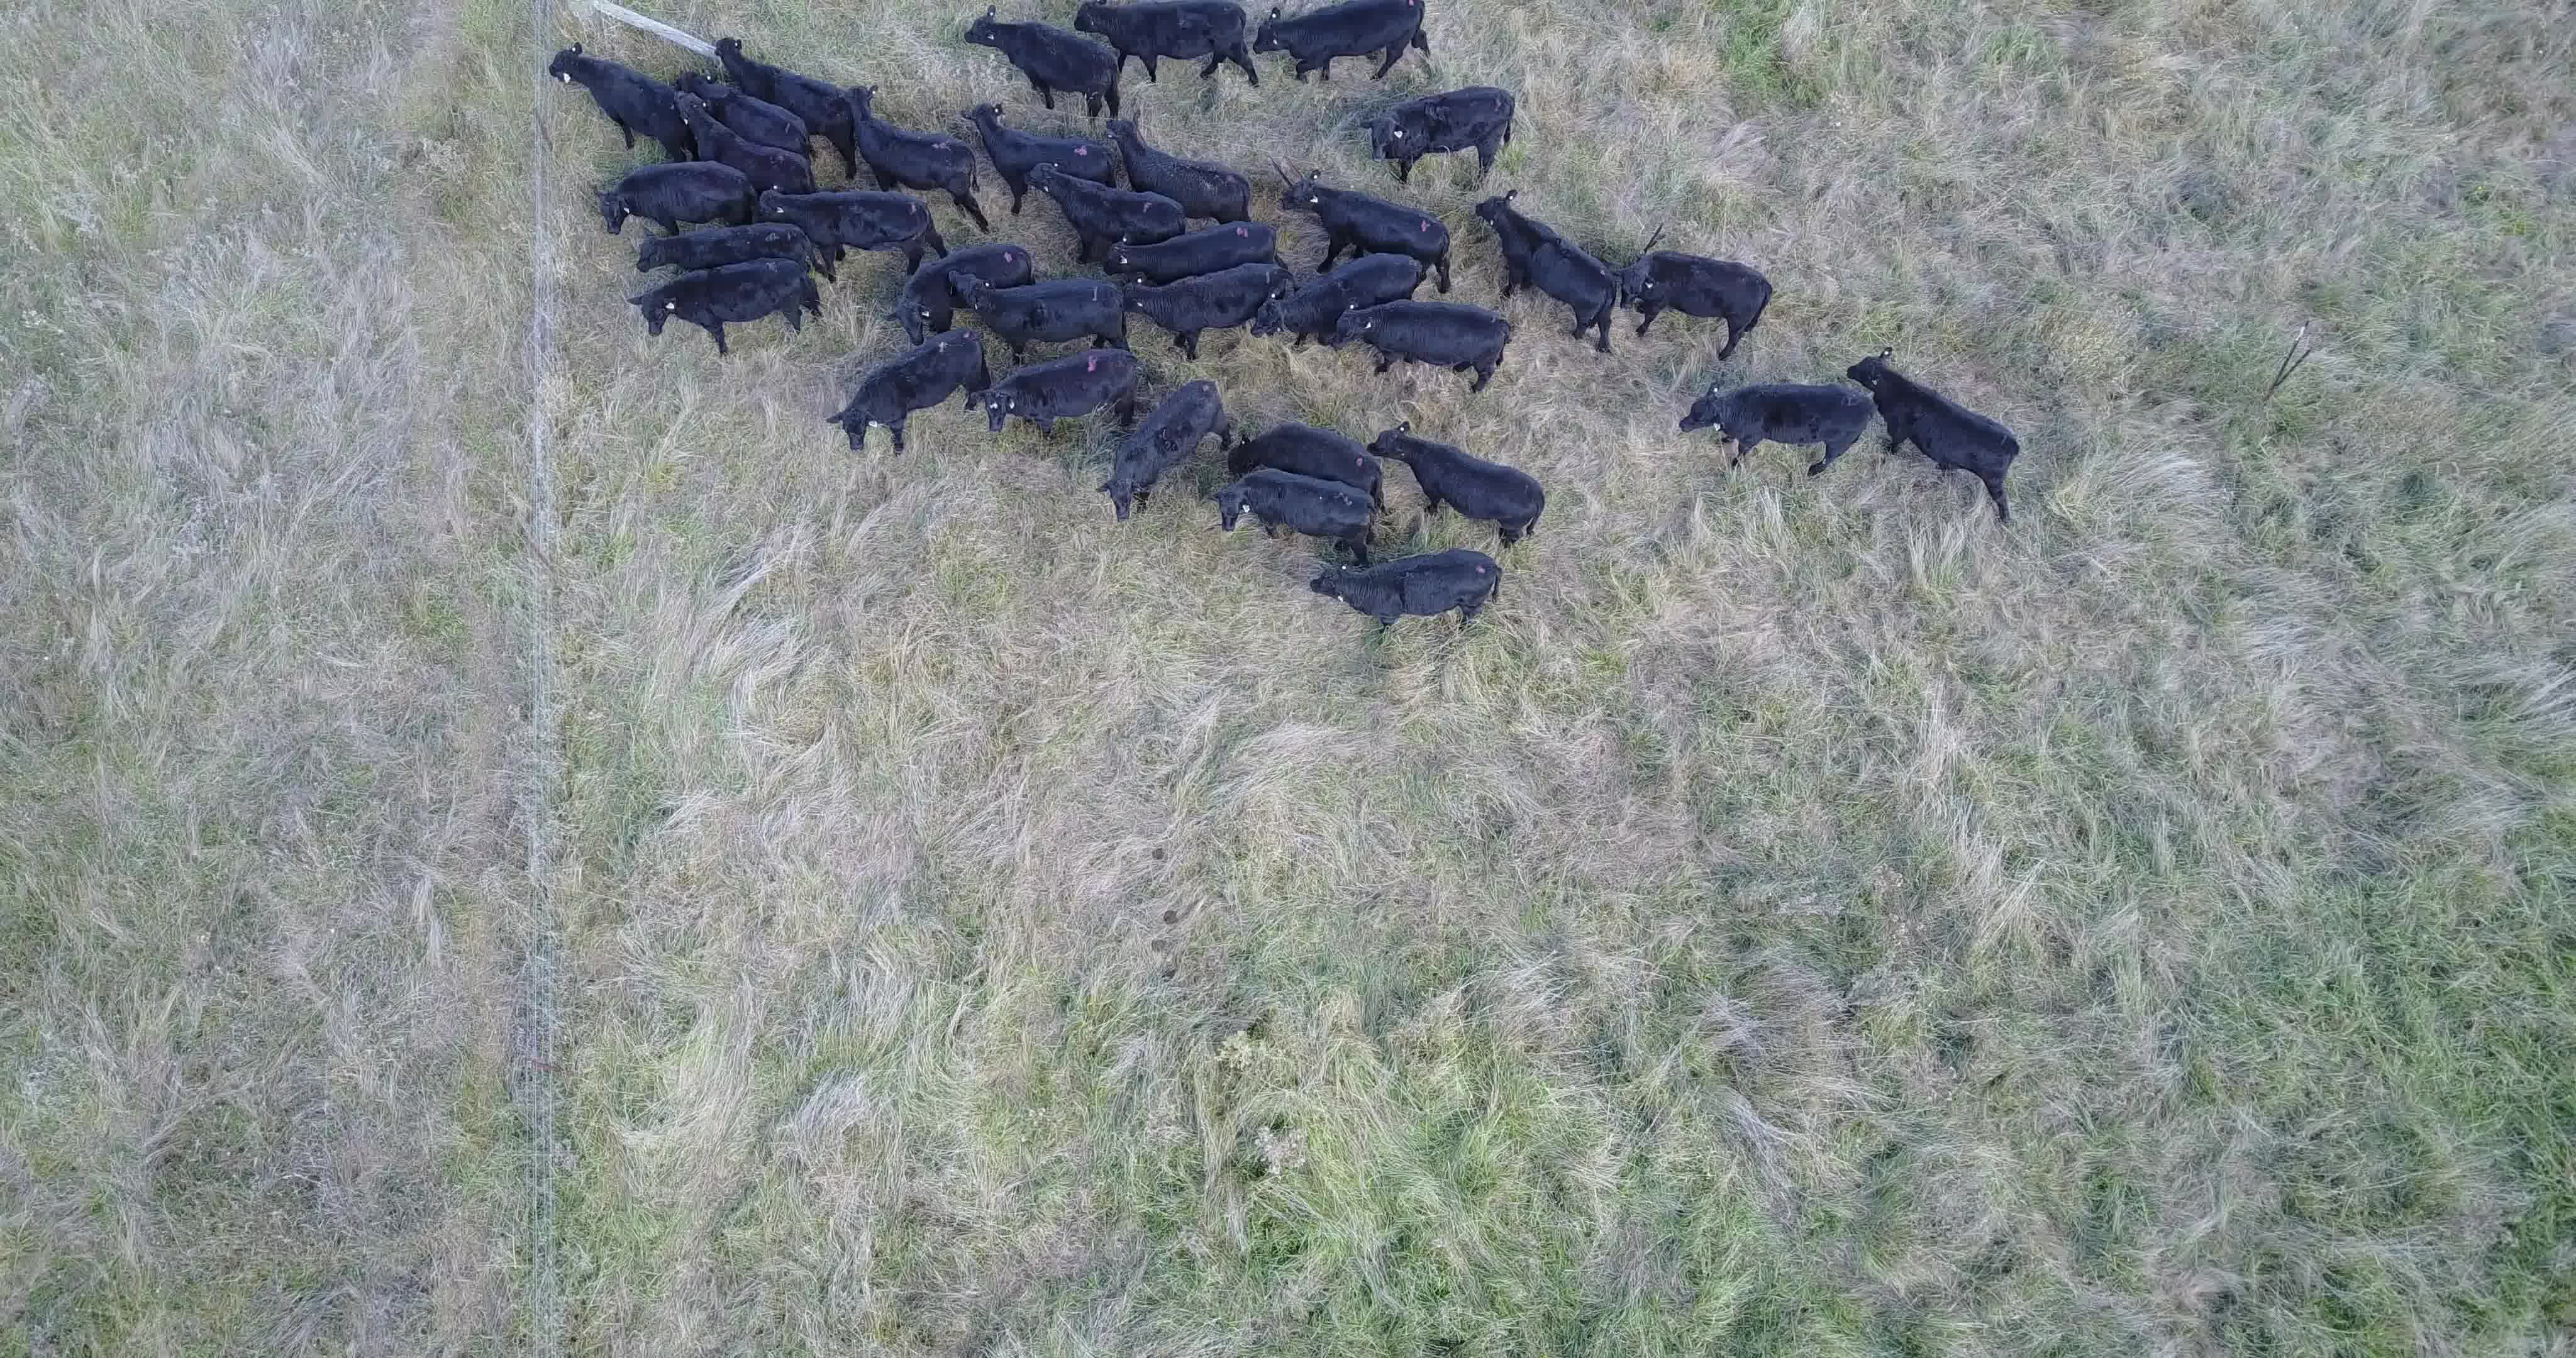cattle: (1842, 342, 2026, 537), (1365, 414, 1554, 550), (1470, 186, 1619, 358), (1665, 375, 1876, 494), (838, 80, 995, 230), (821, 331, 992, 465), (1276, 167, 1458, 286), (624, 257, 821, 365), (1307, 547, 1509, 649), (1613, 237, 1775, 360), (1329, 293, 1513, 400), (956, 97, 1118, 218), (1097, 377, 1227, 527), (959, 3, 1124, 119), (716, 34, 857, 169), (760, 181, 949, 278), (1070, 2, 1268, 94), (964, 348, 1135, 450), (1249, 252, 1426, 348), (1213, 469, 1382, 567), (1252, 2, 1443, 89), (947, 268, 1133, 356), (547, 41, 688, 157), (1104, 112, 1254, 222), (1356, 83, 1518, 184), (1119, 262, 1285, 358), (1019, 158, 1189, 249), (1218, 417, 1390, 504), (671, 90, 811, 194), (883, 244, 1031, 339), (675, 61, 819, 155), (588, 160, 762, 235), (637, 220, 833, 285), (1099, 215, 1279, 273)
